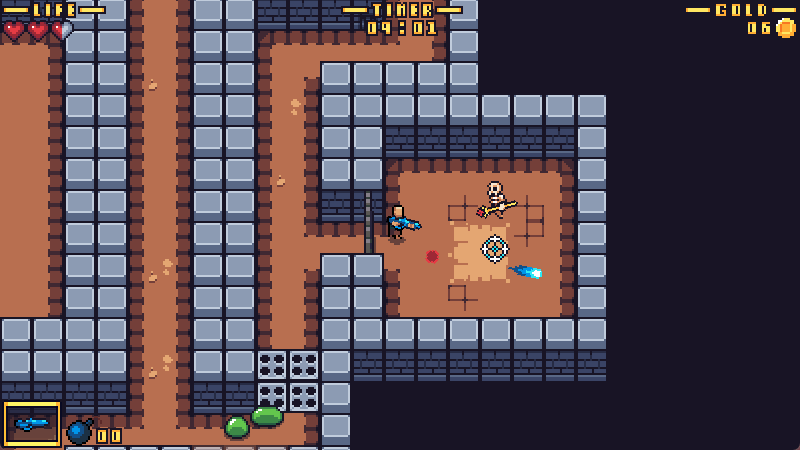aim: (479, 234, 508, 264)
bomb_counter_0: (64, 412, 124, 450)
enemy_skeleton: (476, 180, 519, 219)
enemy_skeleton_shoot: (425, 248, 439, 264)
enemy_slug: (249, 402, 286, 427), (225, 414, 249, 440)
gold_counter: (685, 1, 800, 38)
health-1: (1, 18, 75, 44)
player: (385, 204, 422, 241)
shoot: (506, 262, 544, 281)
timer: (342, 1, 465, 36)
trap_door: (358, 186, 378, 257)
trap_off: (256, 348, 318, 410)
